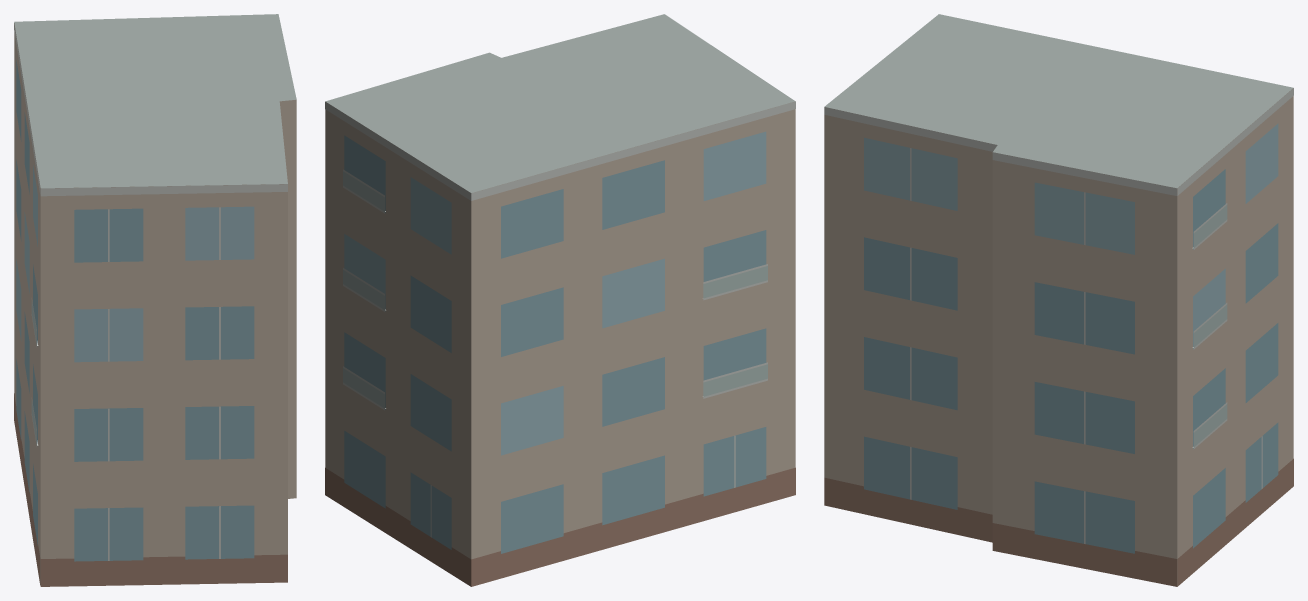
The model's file is survey-upis-32885191.glb.
3 views of the same model, side by side, from view 1: azimuth 30°, elevation 25°; view 2: azimuth 150°, elevation 25°; view 3: azimuth 270°, elevation 25° (orthographic).
Visible parts, largest first — view 1: survey-upis-32885191.tmp; view 2: survey-upis-32885191.tmp; view 3: survey-upis-32885191.tmp.
Part boxes in pixels (x1,y1,x2,y2): survey-upis-32885191.tmp: (14,14,296,586); survey-upis-32885191.tmp: (325,14,795,586); survey-upis-32885191.tmp: (824,14,1293,586).
Size of the model in its own units: 11.54 by 12.3 by 13.14.
